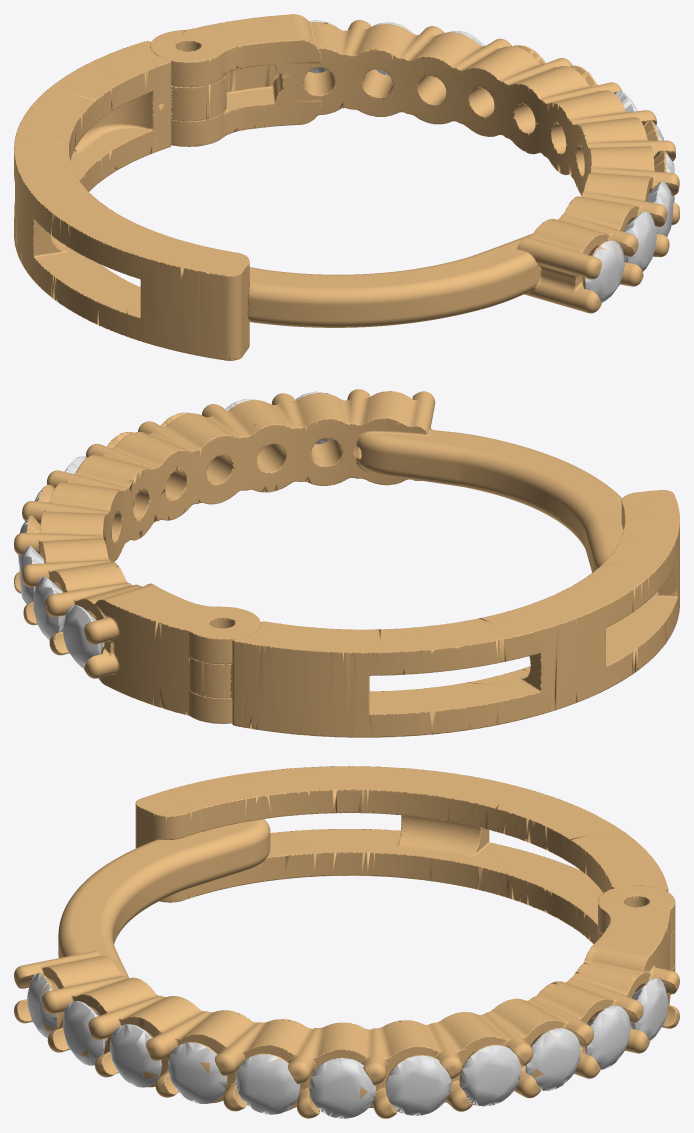
File: EarRing_03.glb
The picture shows the model from 3 angles, top to bottom: view 1: azimuth 30°, elevation 25°; view 2: azimuth 150°, elevation 25°; view 3: azimuth 270°, elevation 25°; orthographic projection.
Visible parts, largest first — view 1: Ring_2; view 2: Ring_2; view 3: Ring_2.
Part boxes in pixels (<box>): Ring_2: <box>14,14,679,360</box>; Ring_2: <box>14,389,679,737</box>; Ring_2: <box>14,766,679,1118</box>.
Bounding box in the file's own units: 0.9025 × 0.1275 × 0.8912.
